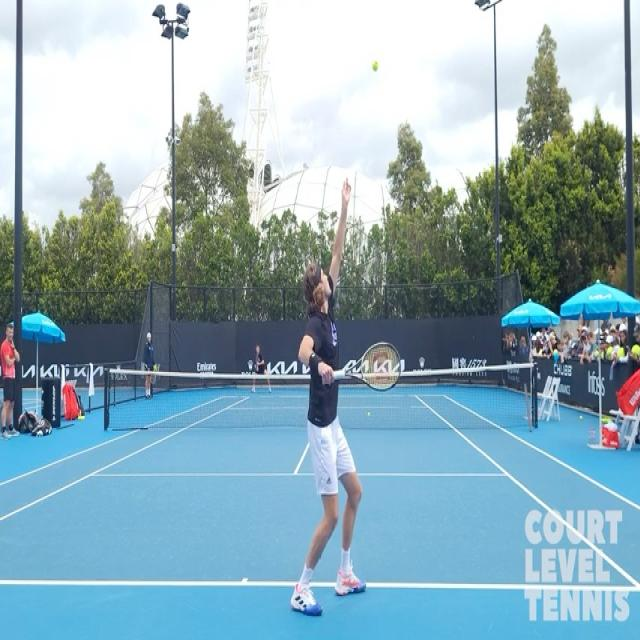serve_toss: (292, 173, 402, 614)
